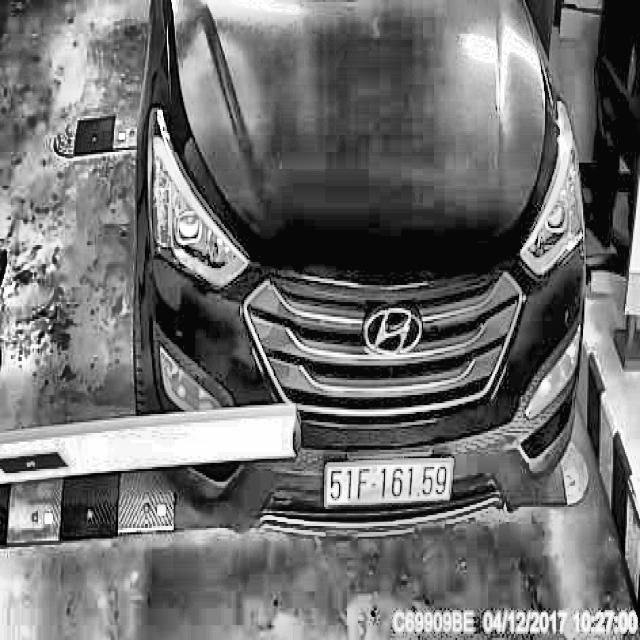plate: (322, 450, 455, 514)
